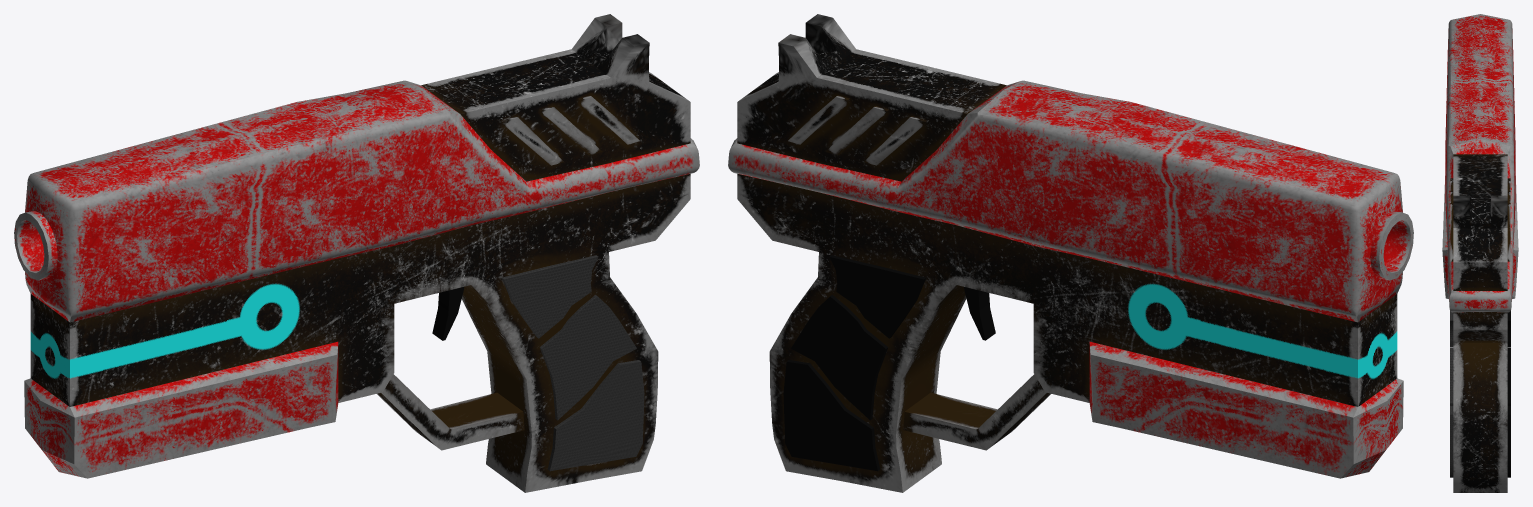
File: pistol.fbx
3 renders of one model, left to right at view 1: azimuth 30°, elevation 25°; view 2: azimuth 150°, elevation 25°; view 3: azimuth 270°, elevation 25°, orthographic. The views are drawn at different scales.
Visible parts, largest first — view 1: low_Cube.002, gatillo_Cube.001; view 2: low_Cube.002, gatillo_Cube.001; view 3: low_Cube.002.
Boxes of the visible parts, bbox=[...] form: low_Cube.002: bbox=[14, 14, 699, 492]; gatillo_Cube.001: bbox=[432, 287, 464, 340]; low_Cube.002: bbox=[728, 14, 1413, 492]; gatillo_Cube.001: bbox=[964, 287, 995, 340]; low_Cube.002: bbox=[1442, 14, 1518, 492].
Size of the model in its own units: 89.71 by 56.07 by 13.13.
